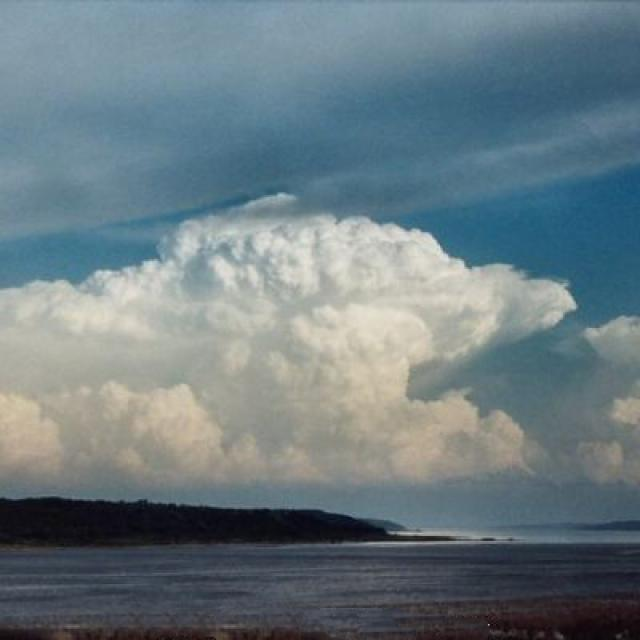As: (1, 181, 604, 485)
